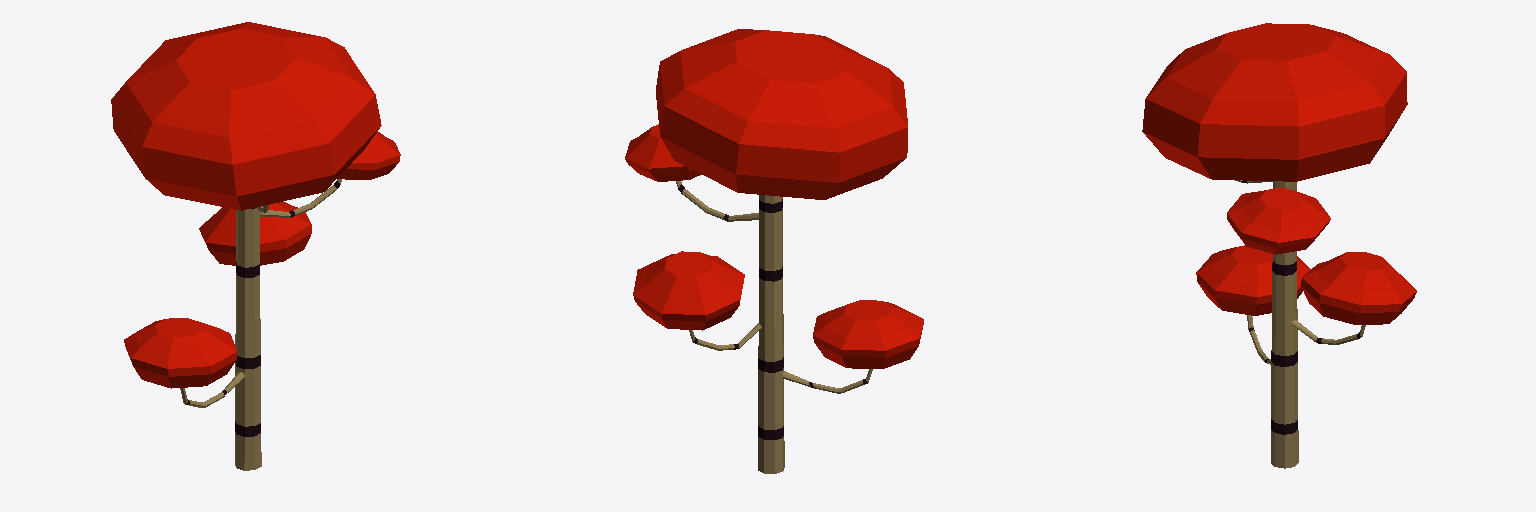
Rendered from Tree_03.obj.
3 renders of one model, left to right at view 1: azimuth 30°, elevation 25°; view 2: azimuth 150°, elevation 25°; view 3: azimuth 270°, elevation 25°, orthographic.
Parts seen in each view (by area): view 1: Tree_03; view 2: Tree_03; view 3: Tree_03.
Part boxes in pixels (x1,y1,x2,y2): Tree_03: (111, 22, 400, 470); Tree_03: (625, 29, 923, 473); Tree_03: (1142, 23, 1416, 468).
Bounding box in the file's own units: 9.01 × 13.02 × 7.75.